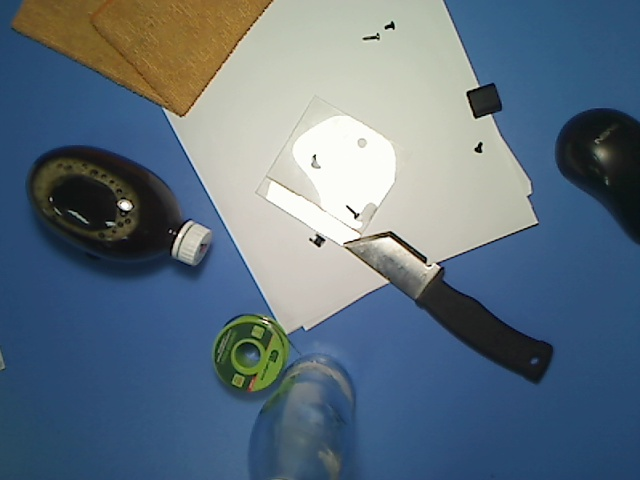plast_bottle: (22, 141, 227, 282)
